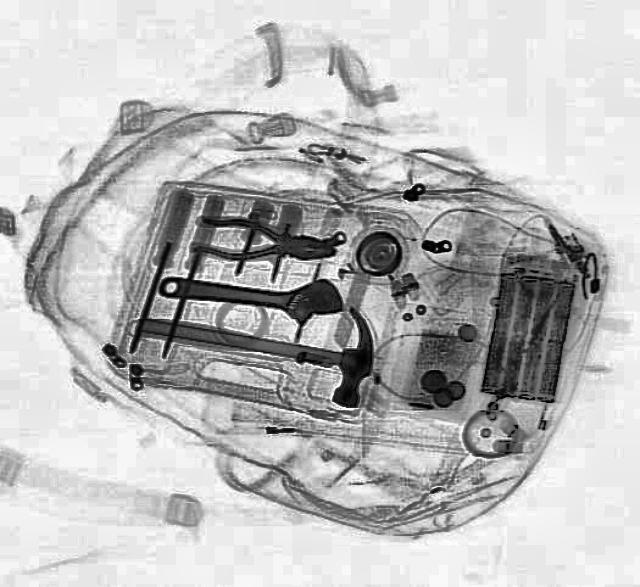Pliers: (190, 210, 338, 272)
Wrench: (153, 260, 343, 328)
